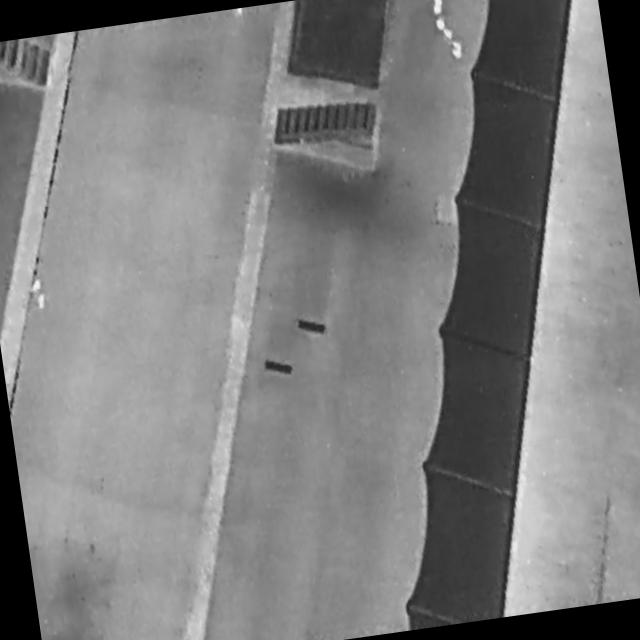person: (30, 278, 52, 315)
